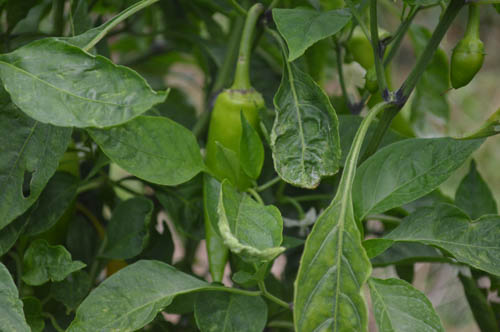ChiliPepper: (203, 91, 267, 279), (447, 49, 482, 88)
